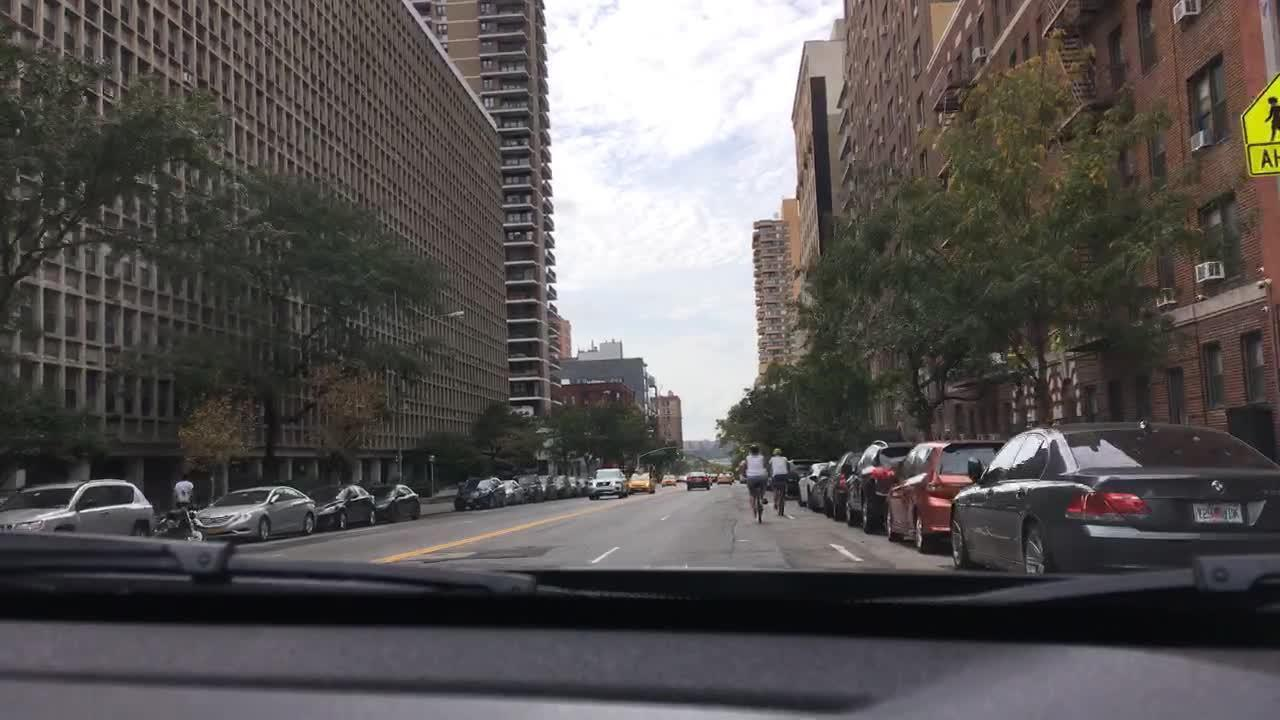bmw: (1208, 477, 1232, 502)
